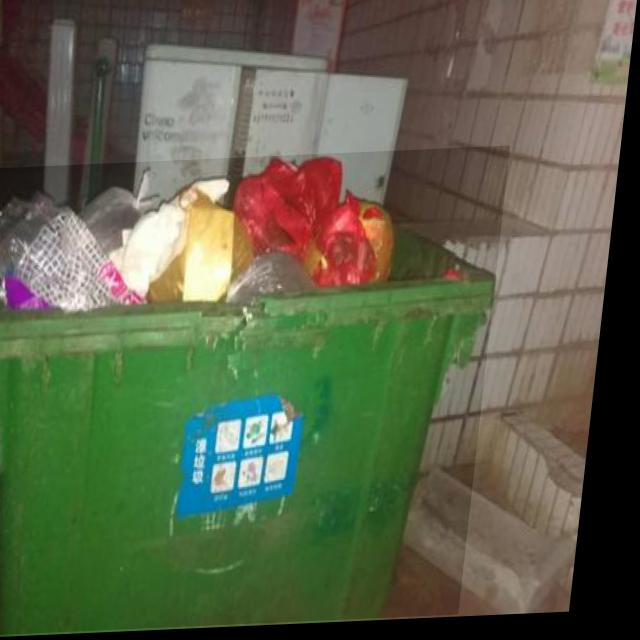overflow: (0, 150, 514, 638)
